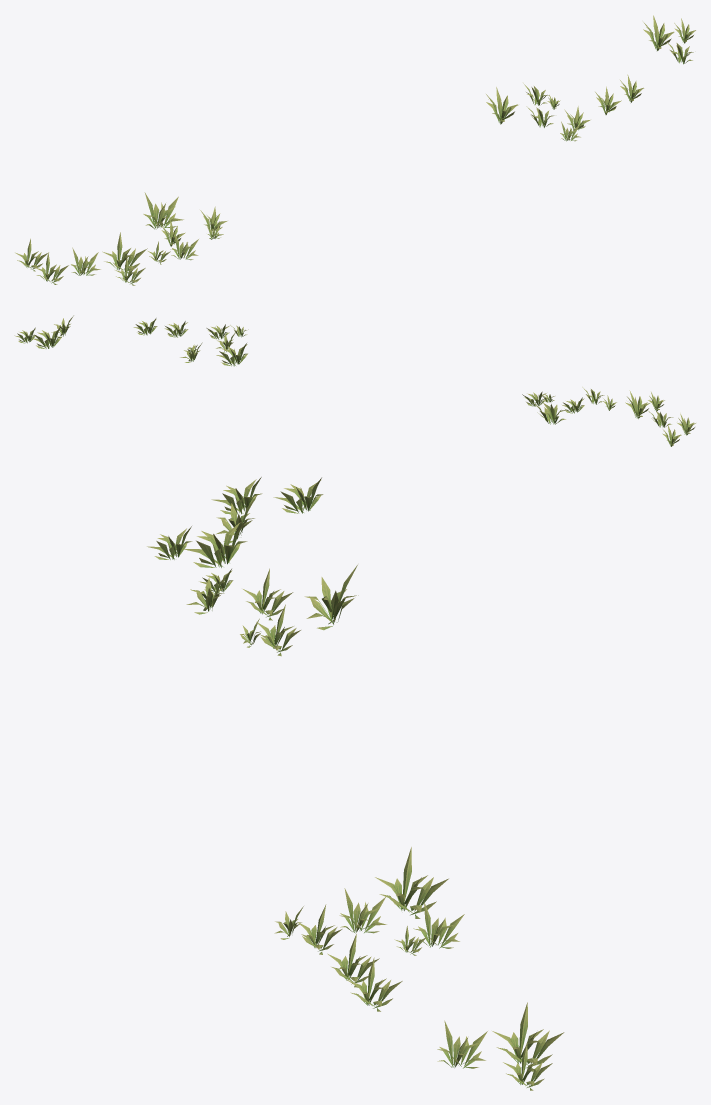
The model's file is area_07_9.fbx.
The picture shows the model from 3 angles, top to bottom: view 1: azimuth 30°, elevation 25°; view 2: azimuth 150°, elevation 25°; view 3: azimuth 270°, elevation 25°; orthographic projection. The views are drawn at different scales.
Visible parts, largest first — view 1: area_07_9; view 2: area_07_9; view 3: area_07_9.
Boxes of the visible parts, x1=… form: area_07_9: x1=15, y1=15, x2=695, y2=285; area_07_9: x1=14, y1=315, x2=695, y2=446; area_07_9: x1=147, y1=477, x2=564, y2=1090.
Bounding box in the file's own units: 29.06 × 1.23 × 8.65.
